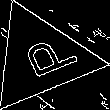P_SW: (8, 31, 74, 86)
